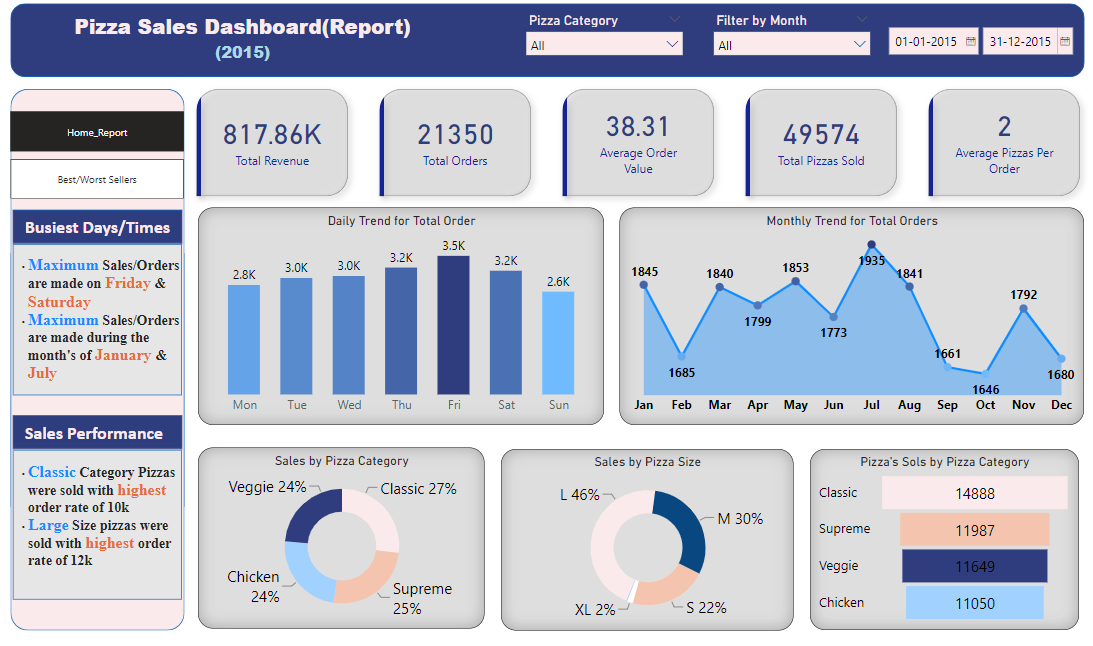

The page's visual inventory and layout, read from the dashboard file:
{"tool":"powerbi","page":{"name":"Home_Report","canvas":[1460,867],"ordinal":0},"visuals":[{"type":"cardVisual","fields":{"Data":["pizza_sales.Total Revenue","pizza_sales.Total Orders","pizza_sales.Average Order Value","pizza_sales.Total Pizzas Sold","pizza_sales.Average Pizzas Per Order"]},"box":[245.5,103.3,1213.8,175.3],"z":0},{"type":"shape","title":"Pizza Sales Analysis/Dashboard  (2015)","box":[14,6,1432,98],"z":1000},{"type":"textbox","box":[0,11.7,646.8,91.6],"z":2000},{"type":"columnChart","title":"Daily Trend for Total Order","fields":{"Category":["pizza_sales.Order Day"],"Y":["pizza_sales.Total Orders"]},"box":[265,278.6,541.6,290.3],"z":3000},{"type":"areaChart","title":"Monthly Trend for Total Orders","fields":{"Category":["pizza_sales.Order Month"],"Y":["pizza_sales.Total Orders"]},"box":[826.1,278.6,619.6,290.3],"z":4000},{"type":"donutChart","title":"Sales by Pizza Category","fields":{"Category":["pizza_sales.pizza_category"],"Y":["pizza_sales.Total Revenue"]},"box":[265,598.1,381.9,241.6],"z":5000},{"type":"funnel","title":"Pizza''s Sols by Pizza Category","fields":{"Category":["pizza_sales.pizza_category"],"Y":["pizza_sales.Total Pizzas Sold"]},"box":[1079.4,600.1,358.5,241.6],"z":6000},{"type":"donutChart","title":"Sales by Pizza Size","fields":{"Y":["pizza_sales.Total Revenue"],"Category":["pizza_sales.pizza_size"]},"box":[668,600,390,242],"z":7000},{"type":"shape","box":[14,120,232,722],"z":8000},{"type":"shape","box":[14,278,232,52],"z":9000},{"type":"shape","box":[14,552.7,232,52],"z":10000},{"type":"shape","box":[14.2,324.2,231.7,207.5],"z":11000},{"type":"shape","box":[14.2,598.3,231.7,205.8],"z":12000},{"type":"slicer","fields":{"Values":["pizza_sales.pizza_category"]},"box":[691.7,11.7,228,76],"z":13000},{"type":"slicer","fields":{"Values":["pizza_sales.order_date"]},"box":[1172.9,27.3,265,52.6],"z":14000},{"type":"slicer","fields":{"Values":["pizza_sales.Order Month"]},"box":[943,11.7,228,76],"z":15000},{"type":"textbox","box":[28,557,263,41],"z":16000},{"type":"textbox","box":[28,284,263,40],"z":17000},{"type":"textbox","box":[14,336,232,196],"z":18000},{"type":"textbox","box":[14,612,232,178],"z":19000},{"type":"pageNavigator","box":[13.8,151.2,232.5,117.5],"z":21000}]}

Visuals, with their boxes in screenshot pixels (x1, y1, x2, y2), scaled from the page's 1460x867 canvas onto the 1093x646 screenshot:
cardVisual - pizza_sales.Total Revenue x pizza_sales.Total Orders: left=184, top=77, right=1092, bottom=208
"Pizza Sales Analysis/Dashboard  (2015)" shape: left=10, top=4, right=1083, bottom=77
textbox: left=0, top=9, right=484, bottom=77
"Daily Trend for Total Order" columnChart: left=198, top=208, right=604, bottom=424
"Monthly Trend for Total Orders" areaChart: left=618, top=208, right=1082, bottom=424
"Sales by Pizza Category" donutChart: left=198, top=446, right=484, bottom=626
"Pizza''s Sols by Pizza Category" funnel: left=808, top=447, right=1076, bottom=627
"Sales by Pizza Size" donutChart: left=500, top=447, right=792, bottom=627
shape: left=10, top=89, right=184, bottom=627
shape: left=10, top=207, right=184, bottom=246
shape: left=10, top=412, right=184, bottom=451
shape: left=11, top=242, right=184, bottom=396
shape: left=11, top=446, right=184, bottom=599
slicer - pizza_sales.pizza_category: left=518, top=9, right=689, bottom=65
slicer - pizza_sales.order_date: left=878, top=20, right=1076, bottom=60
slicer - pizza_sales.Order Month: left=706, top=9, right=877, bottom=65
textbox: left=21, top=415, right=218, bottom=446
textbox: left=21, top=212, right=218, bottom=241
textbox: left=10, top=250, right=184, bottom=396
textbox: left=10, top=456, right=184, bottom=589
pageNavigator: left=10, top=113, right=184, bottom=200
